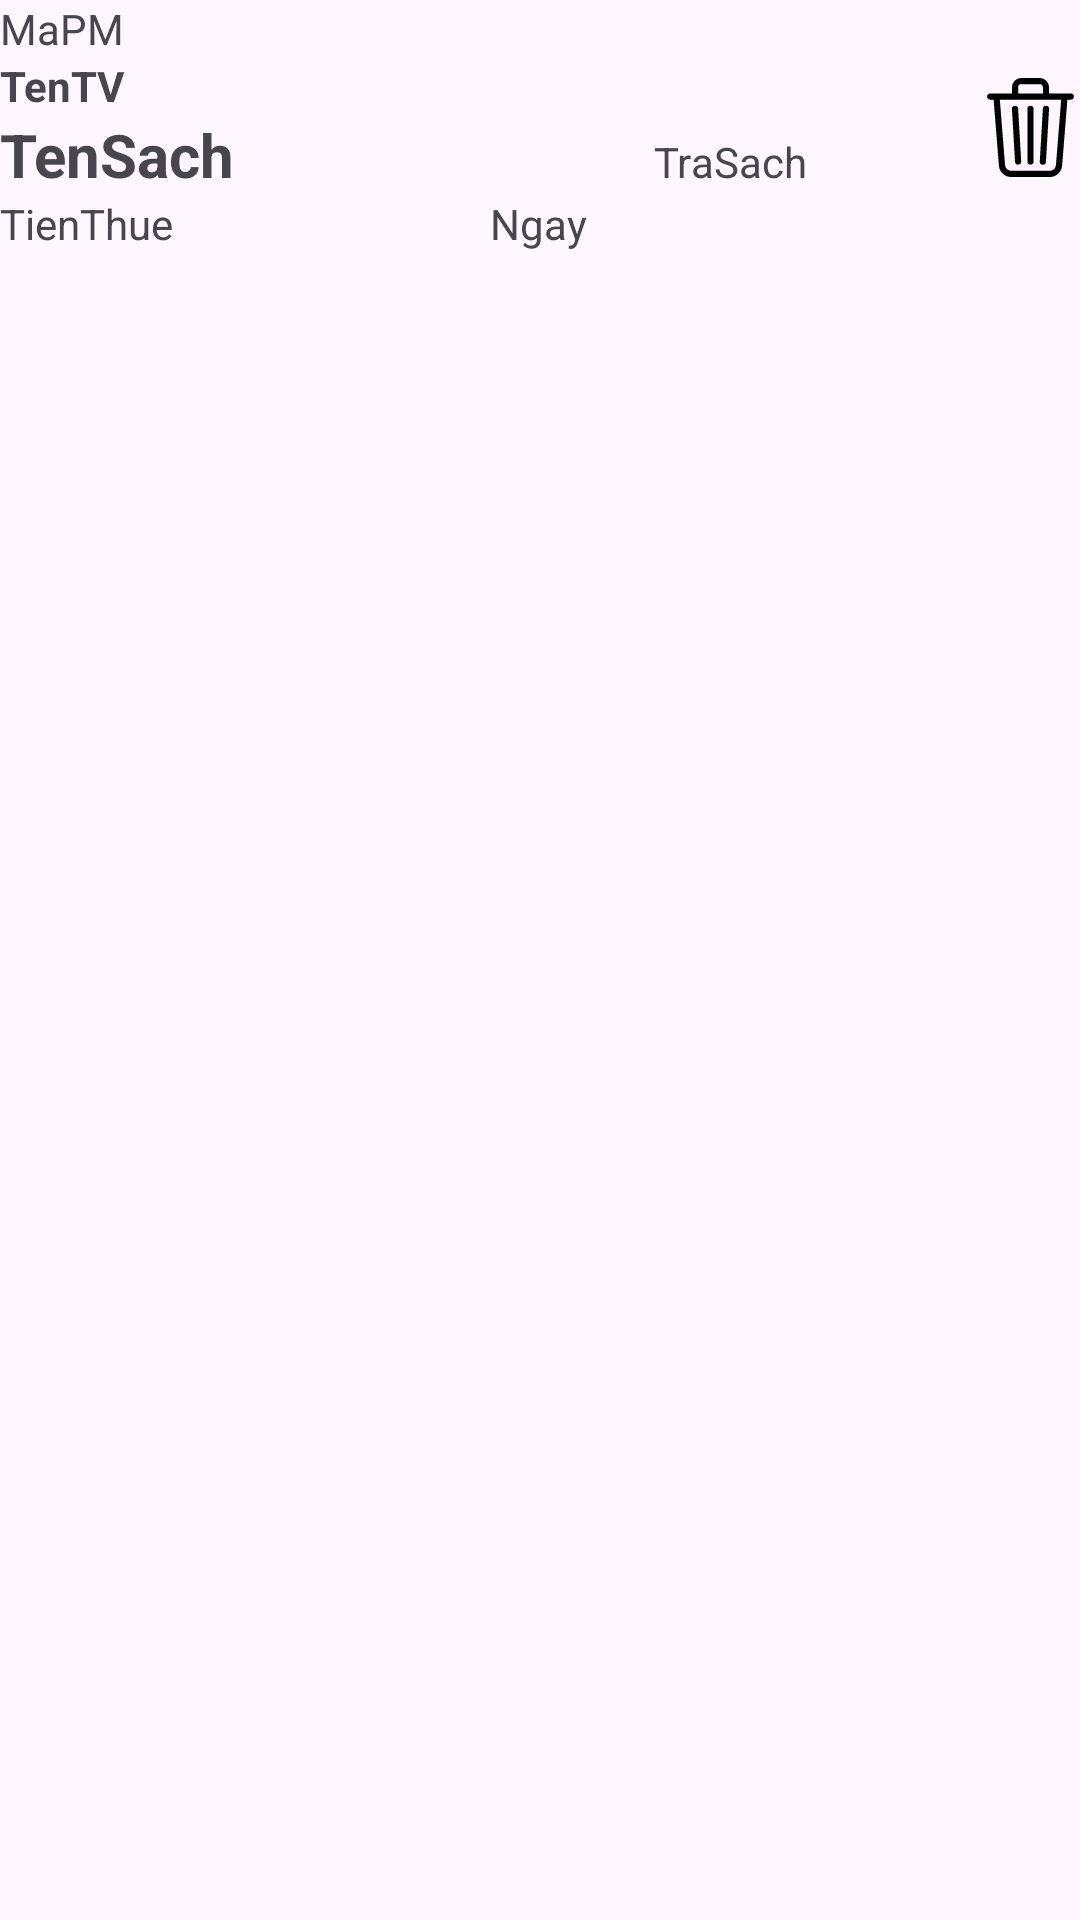

Screen size 1080x1920. Icon name, then its box in pixels as (x1, y1, x2, y2):
delete: (987, 78, 1074, 177)
